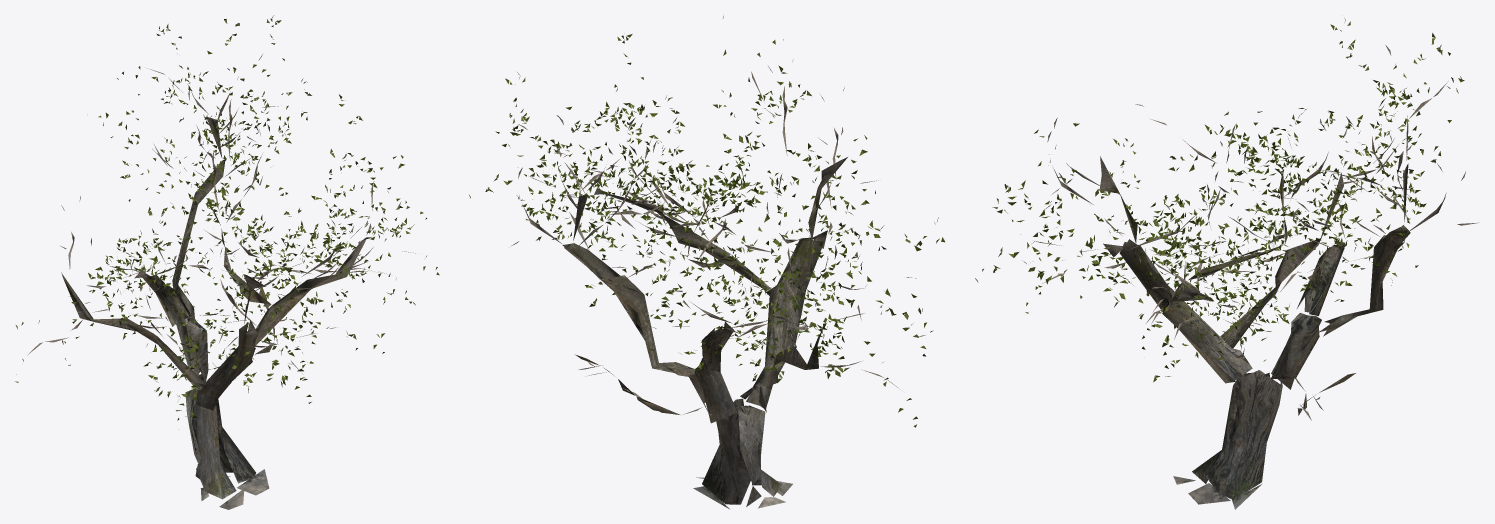
File: island_tree_01-far.glb
The picture shows the model from 3 angles, left to right: view 1: azimuth 30°, elevation 25°; view 2: azimuth 150°, elevation 25°; view 3: azimuth 270°, elevation 25°; orthographic projection. The views are drawn at different scales.
Parts seen in each view (by area): view 1: island_tree_01_LOD0.001, island_tree_01_LOD0.002, island_tree_01_LOD0; view 2: island_tree_01_LOD0.001, island_tree_01_LOD0.002, island_tree_01_LOD0; view 3: island_tree_01_LOD0.001, island_tree_01_LOD0.002, island_tree_01_LOD0.
Part boxes in pixels (x1,y1,x2,y2): island_tree_01_LOD0.001: [61, 116, 371, 509]; island_tree_01_LOD0.002: [15, 15, 439, 420]; island_tree_01_LOD0: [27, 54, 415, 376]; island_tree_01_LOD0.001: [562, 157, 847, 509]; island_tree_01_LOD0.002: [469, 16, 944, 427]; island_tree_01_LOD0: [511, 59, 925, 398]; island_tree_01_LOD0.001: [1099, 156, 1410, 509]; island_tree_01_LOD0.002: [975, 18, 1464, 382]; island_tree_01_LOD0: [1020, 45, 1479, 420].
Bounding box in the file's own units: 4.64 × 5.02 × 4.56.
Materials: 3 (3 with a texture image).
